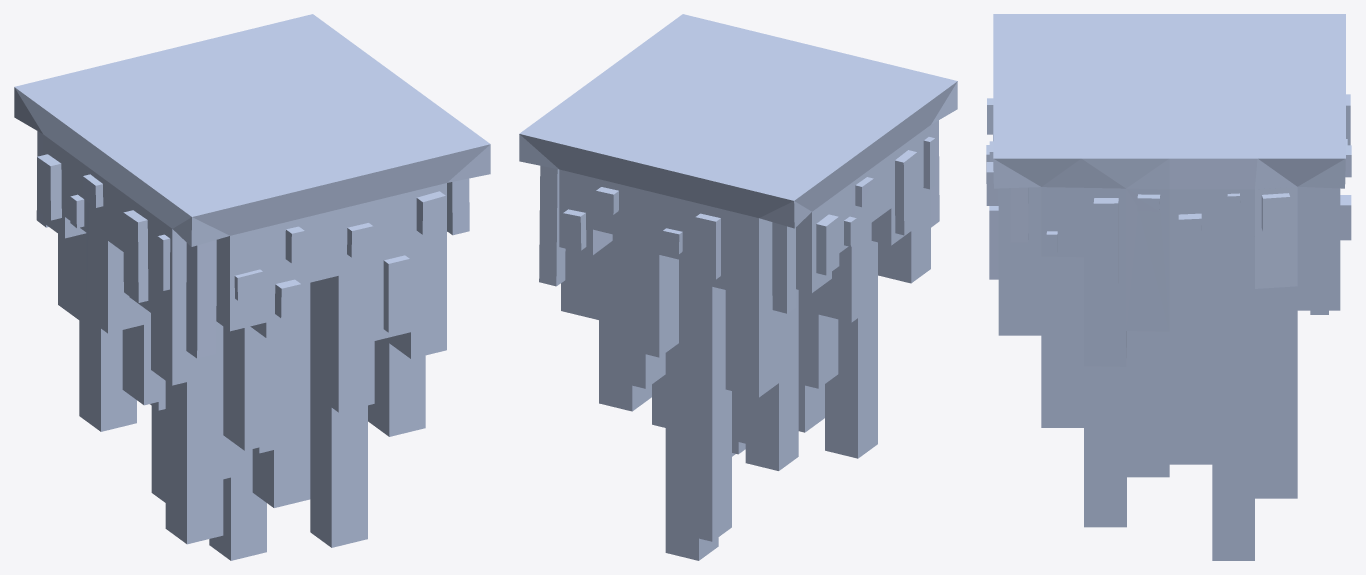
File: field.obj
The picture shows the model from 3 angles, left to right: view 1: azimuth 30°, elevation 25°; view 2: azimuth 150°, elevation 25°; view 3: azimuth 270°, elevation 25°; orthographic projection. The views are drawn at different scales.
Parts seen in each view (by area): view 1: Cube; view 2: Cube; view 3: Cube.
Part boxes in pixels (x1=…): Cube: x1=14, y1=14, x2=490, y2=560; Cube: x1=519, y1=14, x2=957, y2=560; Cube: x1=986, y1=14, x2=1351, y2=560.
Bounding box in the file's own units: 25.77 × 35.93 × 26.03.
Materials: 1 (1 with a texture image).
